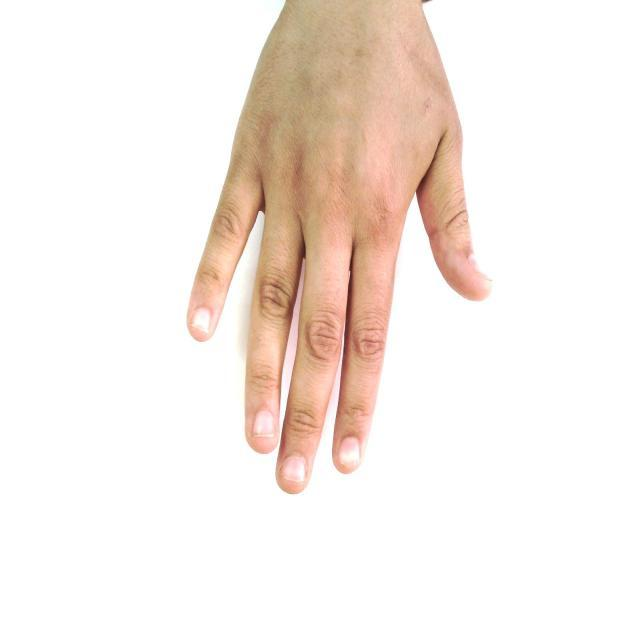Fingernail: (339, 437, 360, 469), (282, 456, 306, 483), (470, 256, 493, 280), (254, 411, 275, 436), (192, 309, 211, 333)
